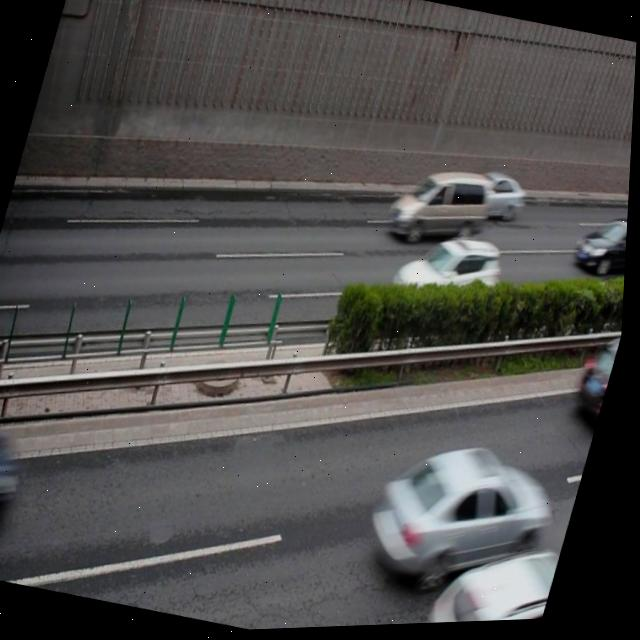car: (359, 426, 563, 616), (384, 225, 510, 333), (420, 536, 565, 627), (571, 212, 631, 287), (465, 168, 532, 230)
truck: (382, 157, 498, 260)
